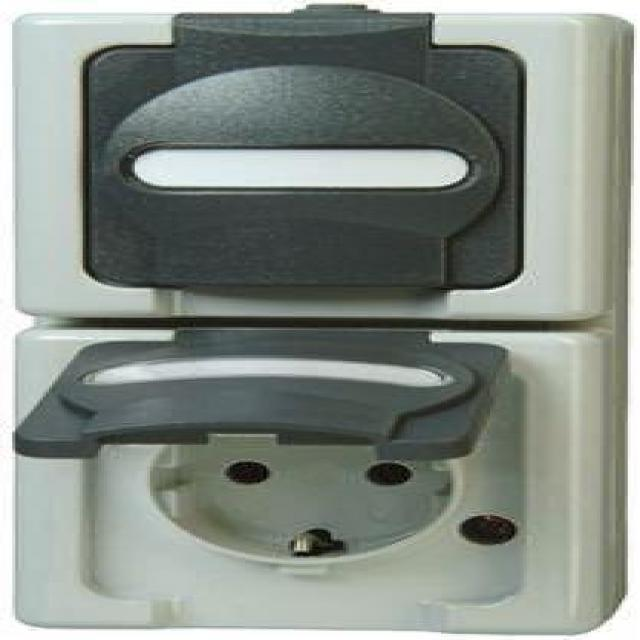typeb: (84, 426, 532, 572)
